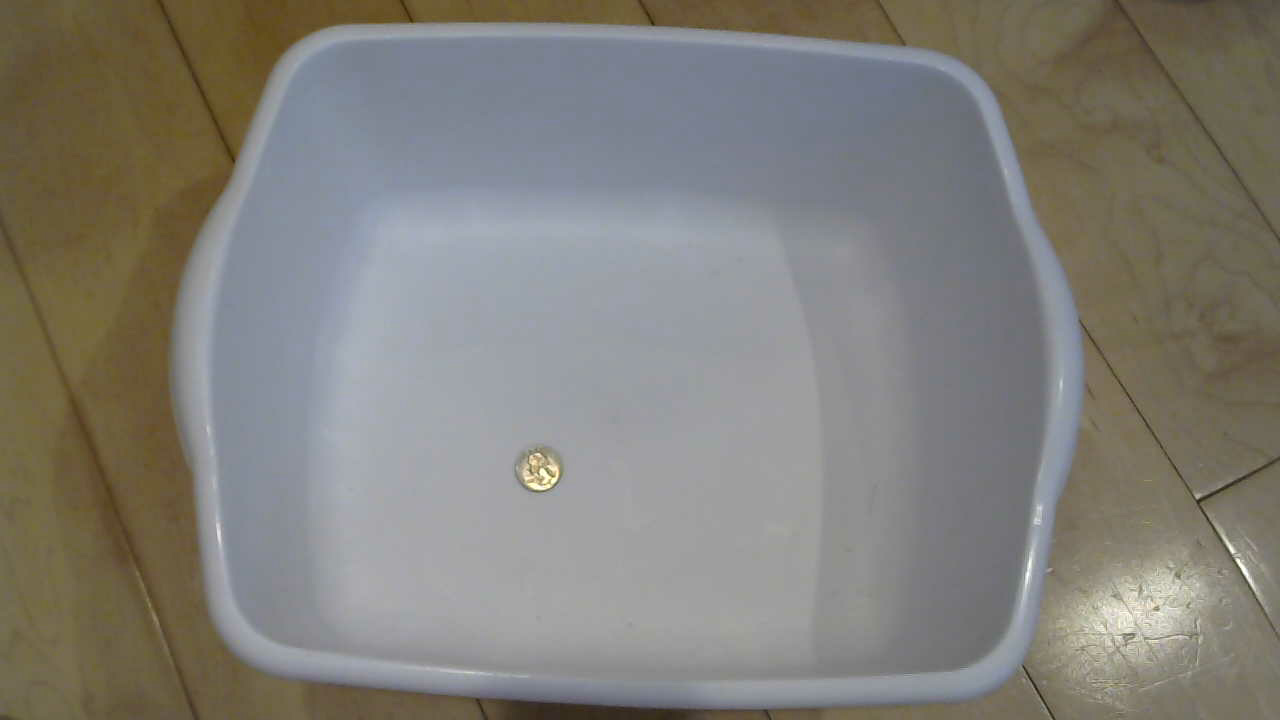coin: (507, 443, 571, 502)
